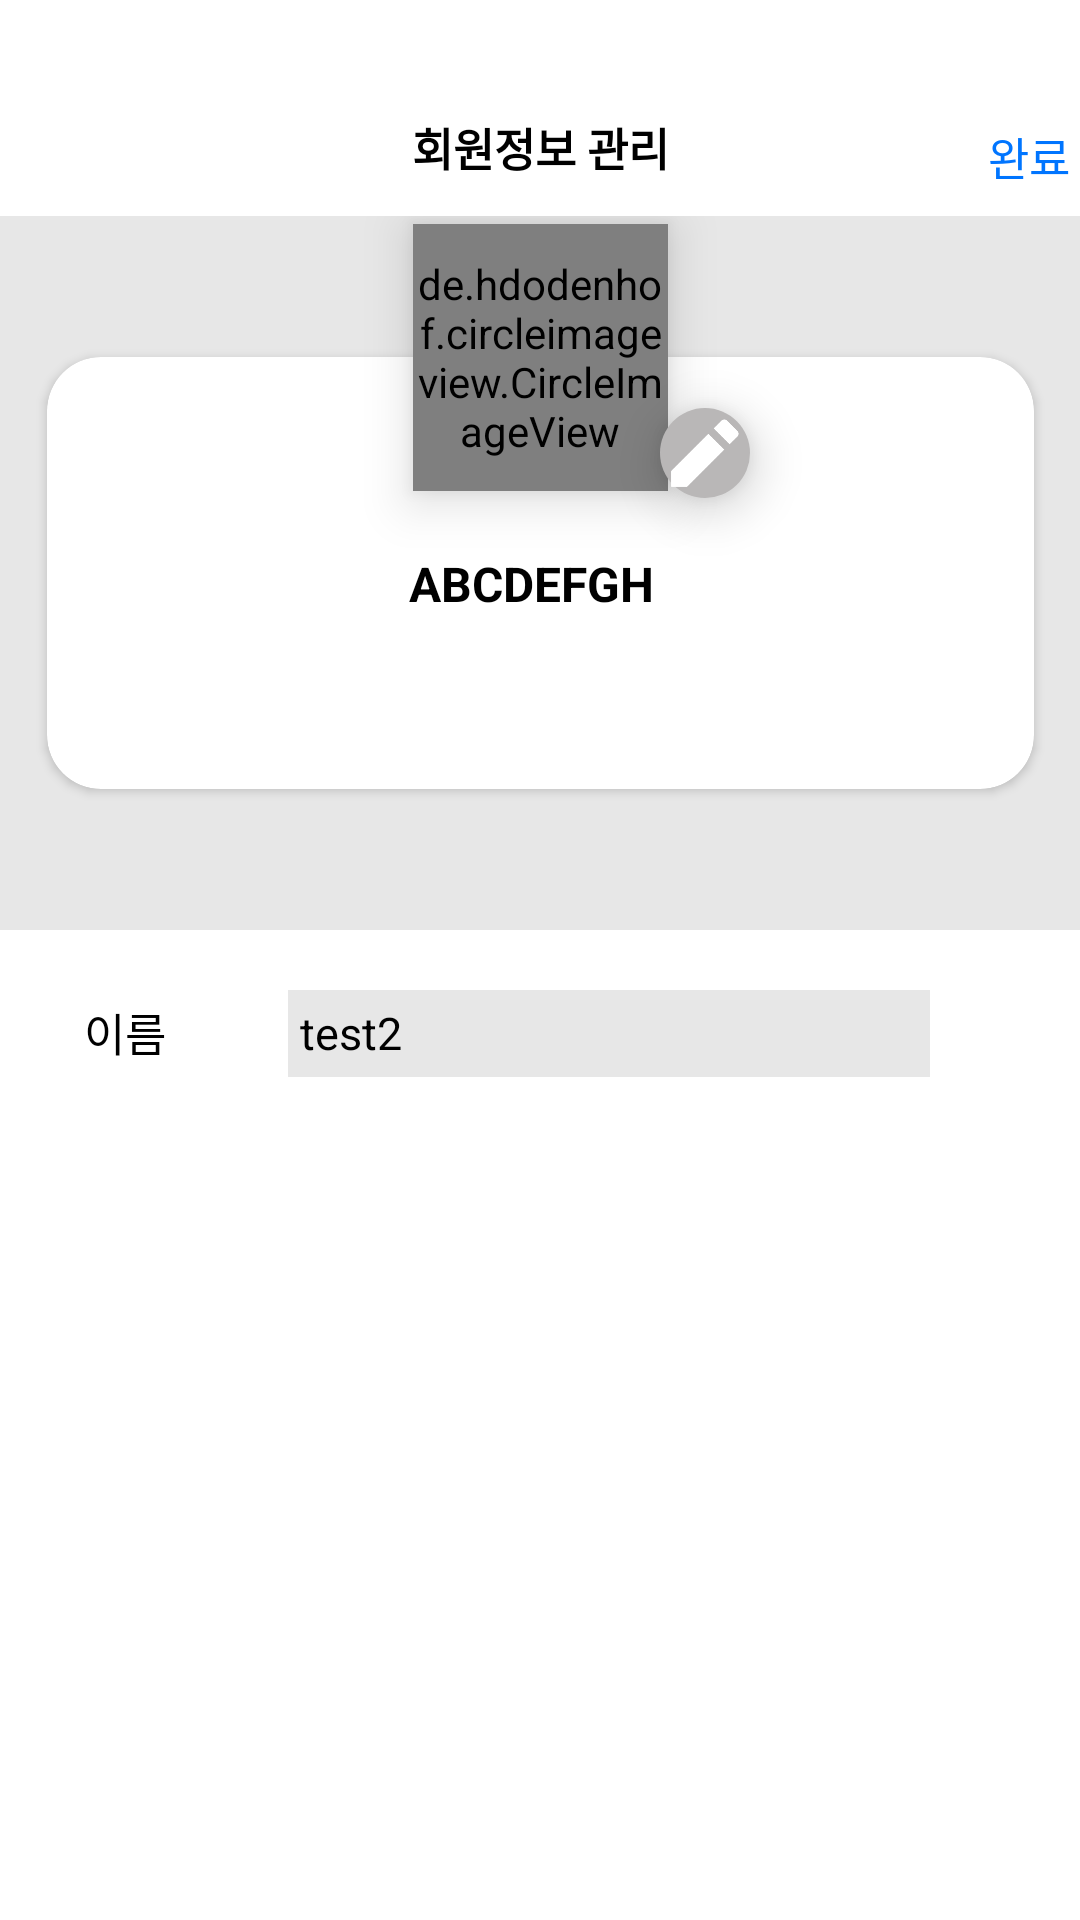

Where icons sit on this 1080x1920 app screen, as (x1, y1, x2, y2):
pencil: (660, 408, 750, 498)
